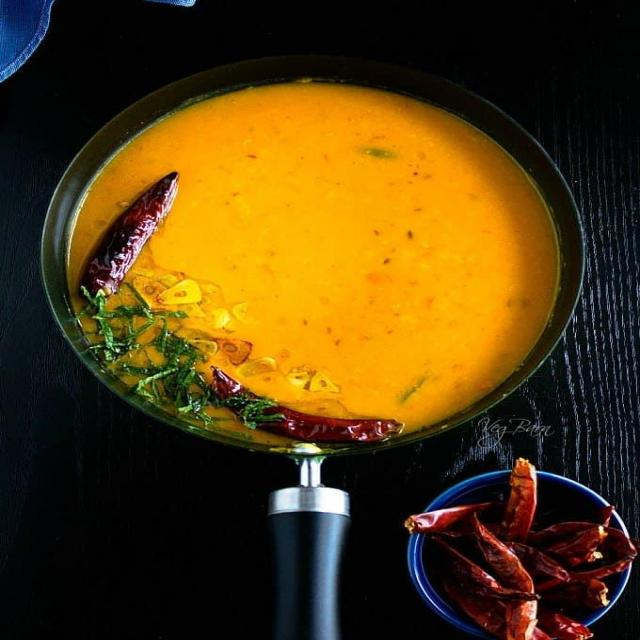dal: (68, 78, 564, 452)
